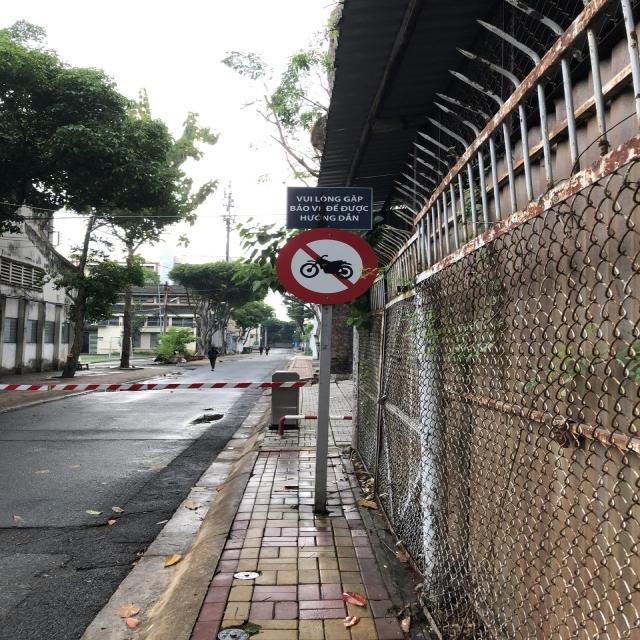Bien bao cam xe may: (271, 224, 384, 309)
